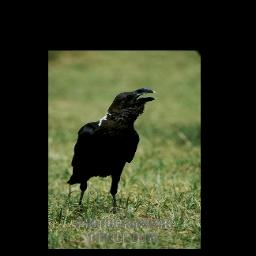Crow: (64, 85, 160, 218)
